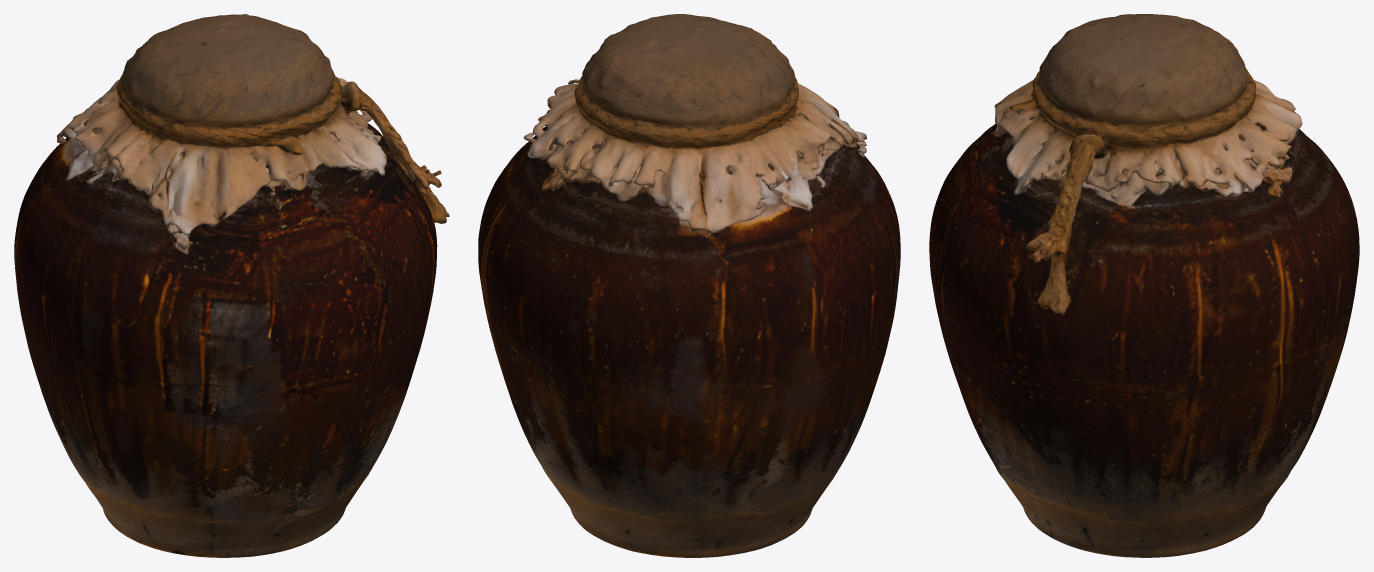
The model's file is clay-jar.glb.
3 renders of one model, left to right at view 1: azimuth 30°, elevation 25°; view 2: azimuth 150°, elevation 25°; view 3: azimuth 270°, elevation 25°, orthographic.
Parts seen in each view (by area): view 1: texture_pbr_v128; view 2: texture_pbr_v128; view 3: texture_pbr_v128.
Part boxes in pixels (box(x1,y1,x2,y2)): texture_pbr_v128: box(14, 14, 449, 557); texture_pbr_v128: box(478, 14, 900, 557); texture_pbr_v128: box(929, 14, 1359, 557).
Bounding box in the file's own units: 0.8963 × 1.1 × 0.9017.
1 material, 1 textured.
